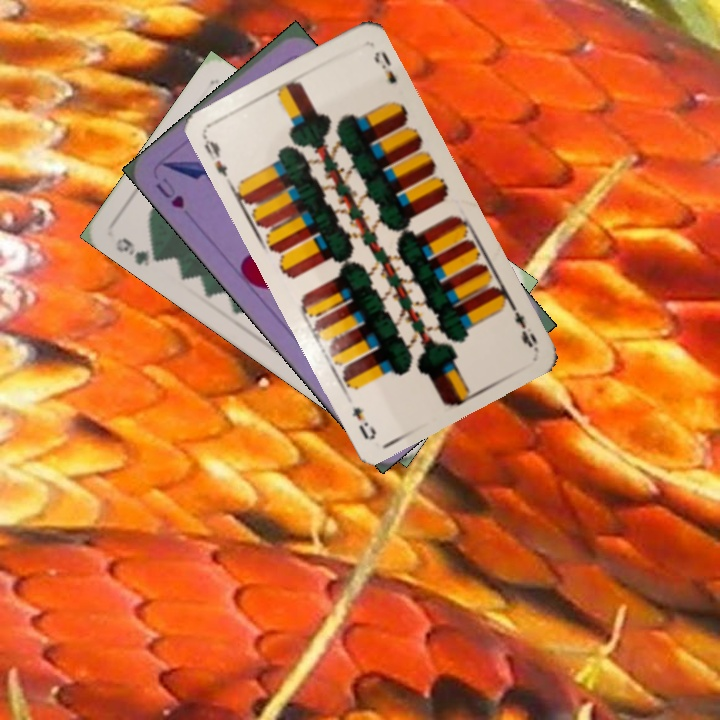E9: (505, 297, 541, 352), (199, 132, 231, 180)
G9: (111, 233, 167, 269)
HU: (151, 173, 187, 212)
